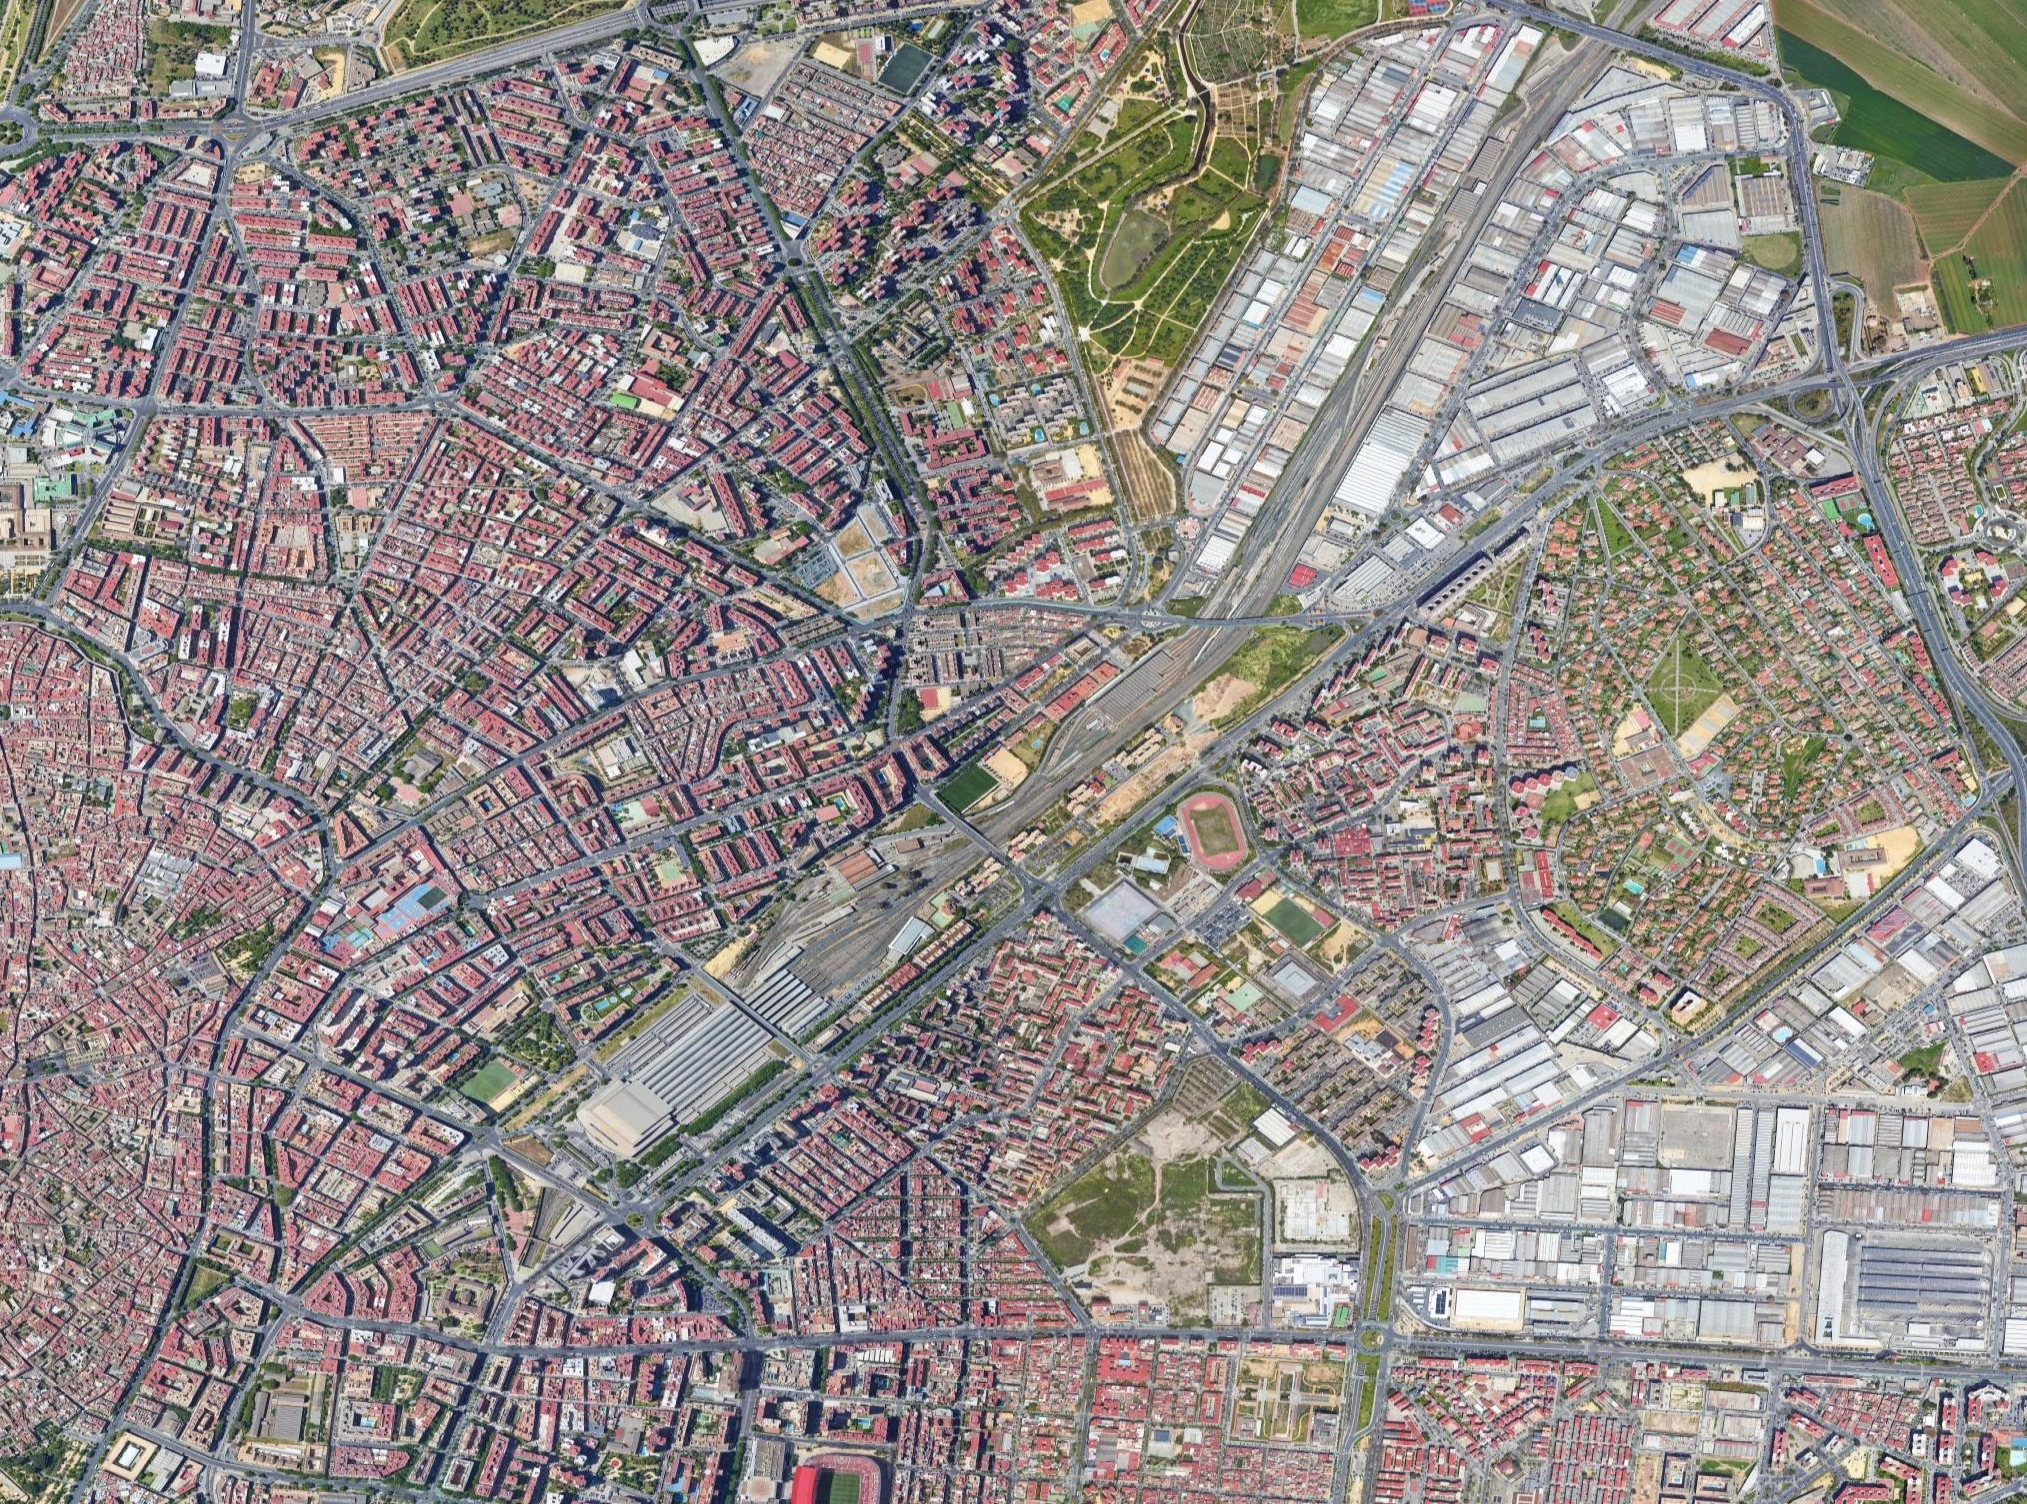bridge: (923, 787, 1008, 856)
industrial: (1177, 24, 1779, 542), (1427, 934, 2027, 1373)
motorway: (1834, 299, 2027, 434), (1468, 2, 1755, 77), (1853, 442, 1954, 654), (412, 2, 662, 84), (1937, 646, 2027, 850), (1774, 95, 1845, 340), (164, 74, 412, 142)
train_station: (580, 961, 817, 1163)
